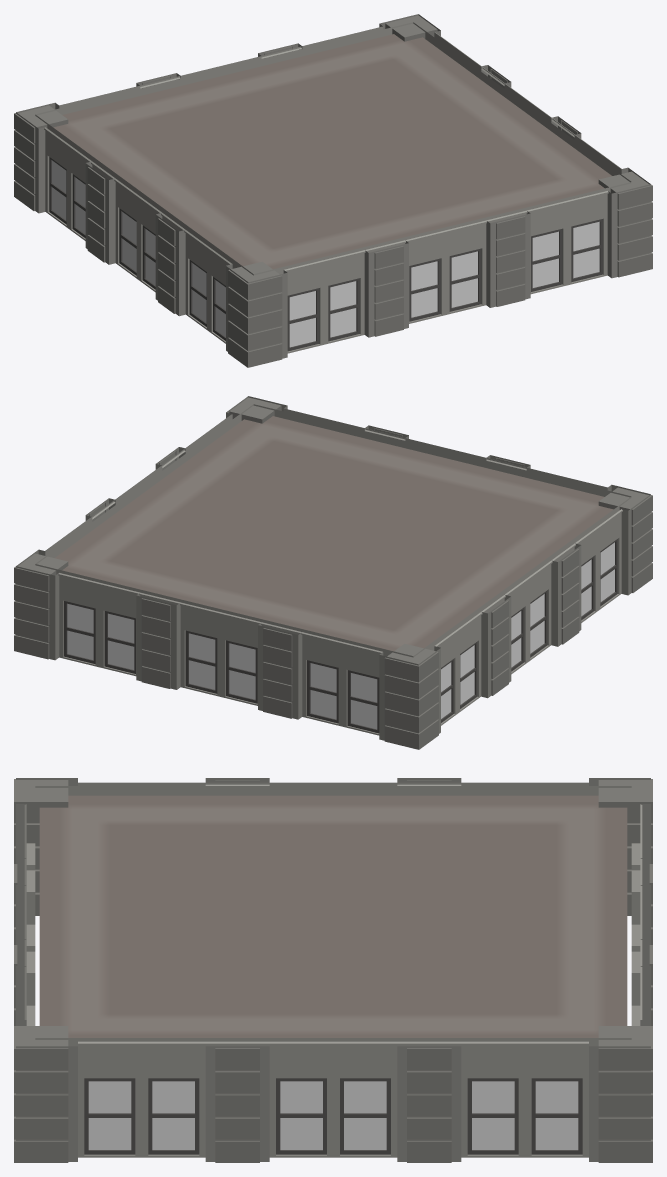
Rendered from SM_Bldg_City_High-Rise_02_Top.fbx.
The picture shows the model from 3 angles, top to bottom: view 1: azimuth 30°, elevation 25°; view 2: azimuth 150°, elevation 25°; view 3: azimuth 270°, elevation 25°; orthographic projection. The views are drawn at different scales.
Parts seen in each view (by area): view 1: SM_Bldg_City_High-Rise_02_Top, SM_Bldg_City_High-Rise_02_Top_Glass; view 2: SM_Bldg_City_High-Rise_02_Top, SM_Bldg_City_High-Rise_02_Top_Glass; view 3: SM_Bldg_City_High-Rise_02_Top, SM_Bldg_City_High-Rise_02_Top_Glass.
Boxes of the visible parts, x1=… form: SM_Bldg_City_High-Rise_02_Top: x1=14, y1=14, x2=652, y2=367; SM_Bldg_City_High-Rise_02_Top_Glass: x1=52, y1=160, x2=599, y2=347; SM_Bldg_City_High-Rise_02_Top: x1=14, y1=396, x2=652, y2=749; SM_Bldg_City_High-Rise_02_Top_Glass: x1=67, y1=542, x2=614, y2=729; SM_Bldg_City_High-Rise_02_Top: x1=14, y1=778, x2=652, y2=1162; SM_Bldg_City_High-Rise_02_Top_Glass: x1=88, y1=1081, x2=578, y2=1149.
Bounding box in the file's own units: 1500 × 300 × 1500.
